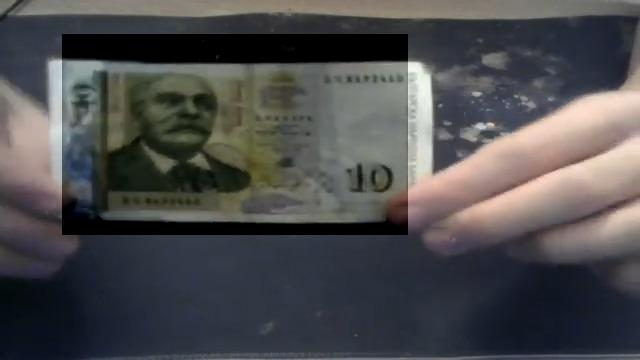10leva: (62, 34, 408, 235)
